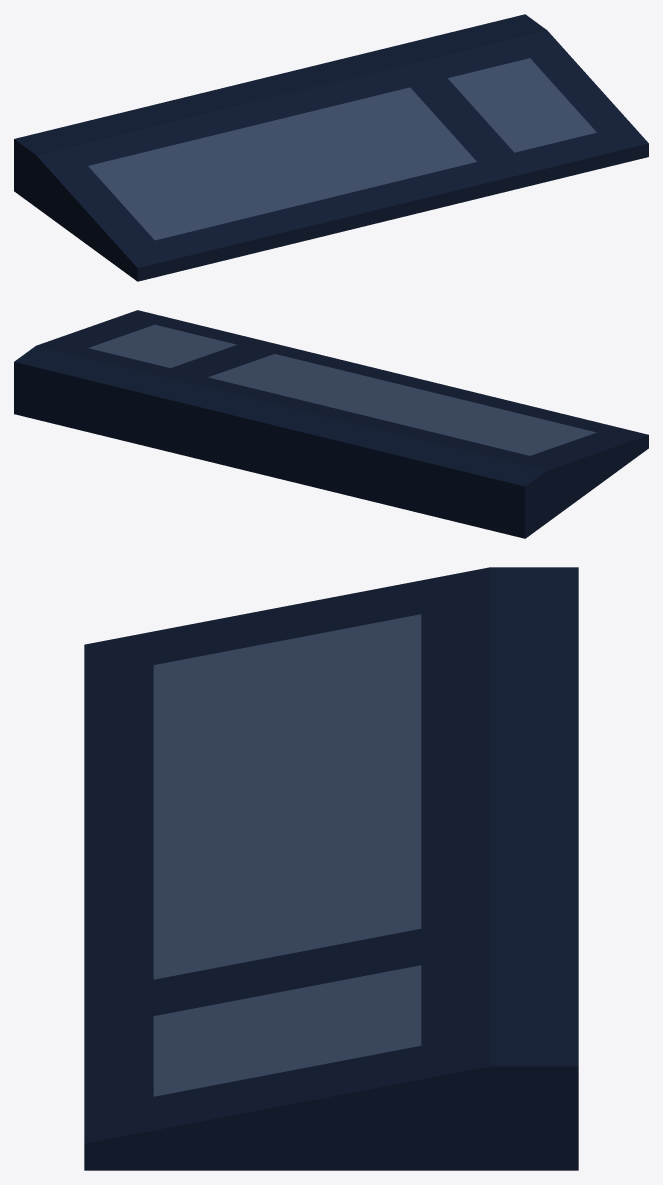
The model's file is keyboard.glb.
3 views of the same model, one above another, from view 1: azimuth 30°, elevation 25°; view 2: azimuth 150°, elevation 25°; view 3: azimuth 270°, elevation 25° (orthographic). The views are drawn at different scales.
Visible parts, largest first — view 1: keyboard; view 2: keyboard; view 3: keyboard.
Part boxes in pixels (box(x1,y1,x2,y2)): keyboard: box(14, 14, 648, 281); keyboard: box(14, 310, 648, 538); keyboard: box(84, 567, 578, 1170).
Bounding box in the file's own units: 0.4233 × 0.0413 × 0.1773.
